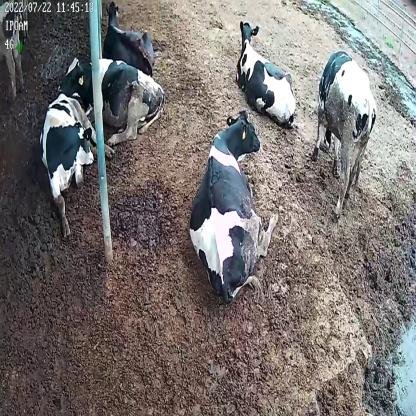cow: (186, 108, 278, 302), (312, 53, 377, 216), (59, 52, 166, 150), (42, 93, 112, 234), (235, 14, 298, 129), (101, 1, 154, 77)
